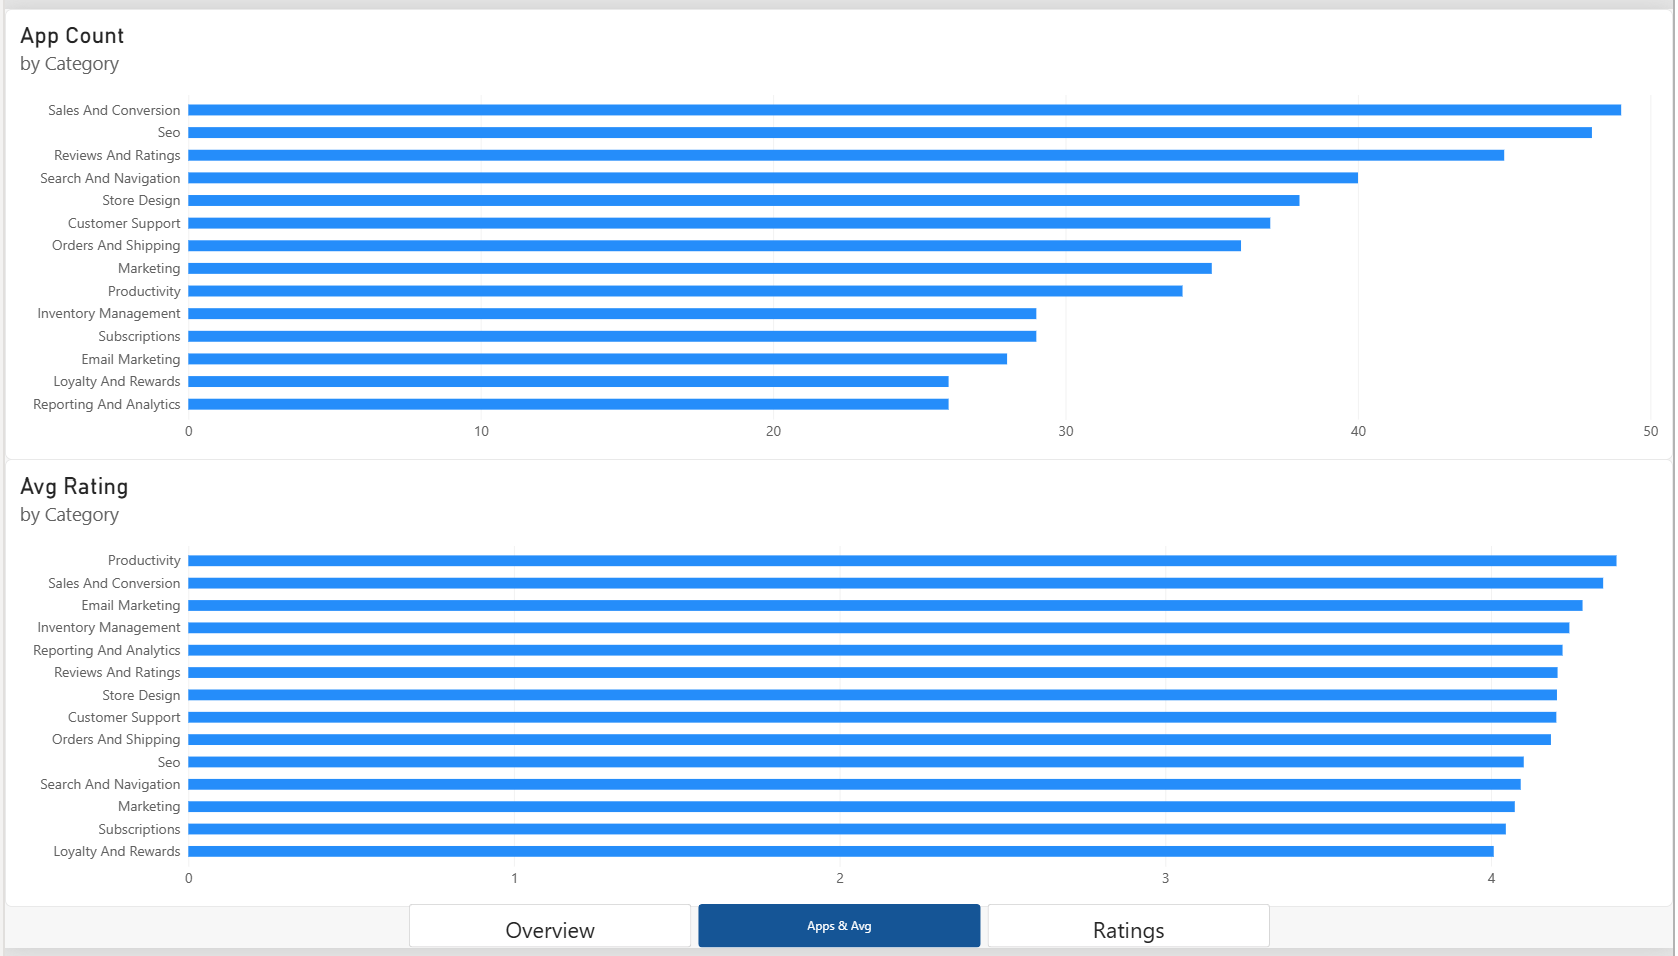

The dashboard page shown, as its layout file describes it:
{"tool":"powerbi","page":{"name":"Apps & Avg","canvas":[1920,1080],"ordinal":1},"visuals":[{"type":"barChart","title":"App Count","fields":{"Category":["apps.category_name"],"Y":["Dim_Date.App Count"]},"box":[0,0,1920,519],"z":0},{"type":"clusteredBarChart","title":"Avg Rating","fields":{"Category":["apps.category_name"],"Y":["Dim_Date.Avg Rating"]},"box":[0,519,1920,514.4],"z":1000},{"type":"pageNavigator","box":[463.9,1028.9,992.2,50.5],"z":2000}]}

Visuals, with their boxes on the page's 1920x1080 design canvas (x1, y1, x2, y2). These are canvas units, not pixel positions in the 1678x956 screenshot, which may show the page scaled, cropped or inside an application window:
"App Count" barChart: x1=0, y1=0, x2=1920, y2=519
"Avg Rating" clusteredBarChart: x1=0, y1=519, x2=1920, y2=1033
pageNavigator: x1=464, y1=1029, x2=1456, y2=1079
